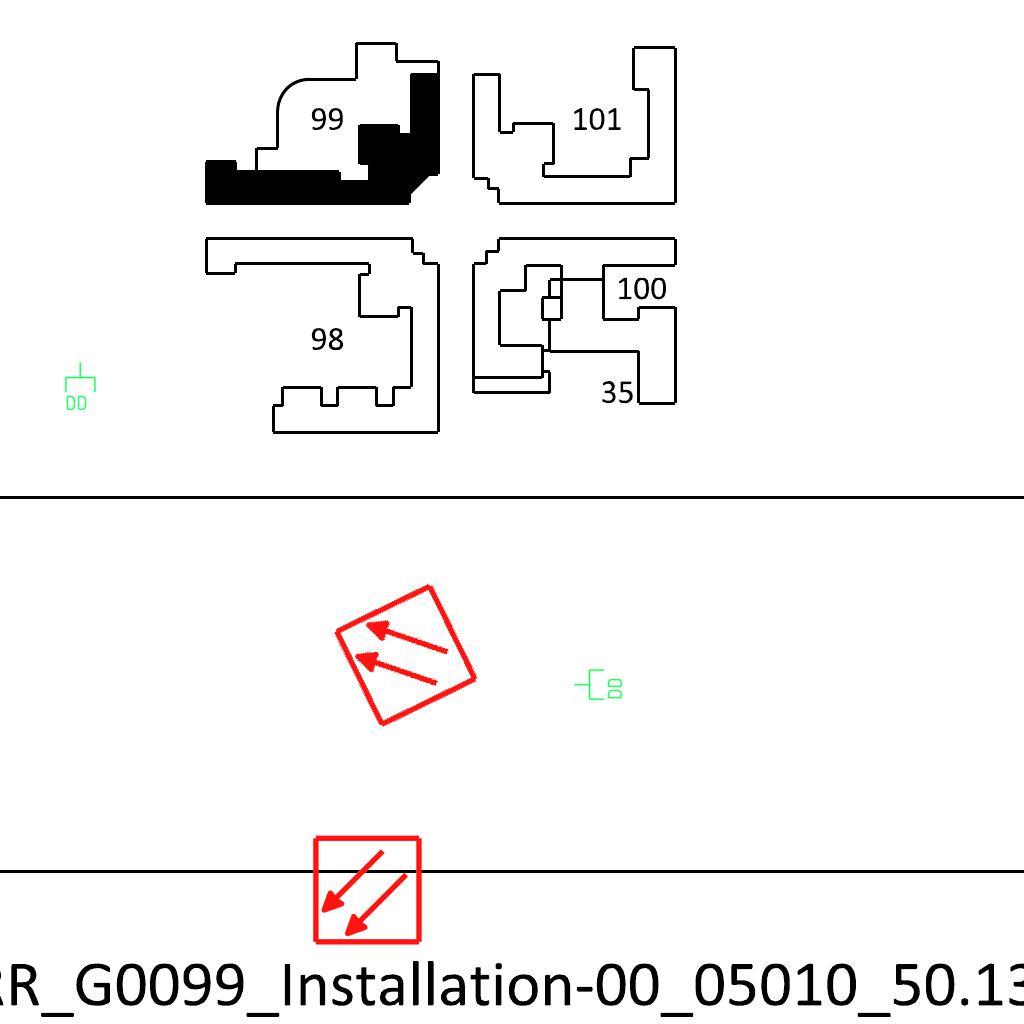Datenanschluss_zweifach: (573, 668, 624, 702), (63, 361, 97, 412)
RMO_Rauchmelder_optischer: (329, 579, 482, 732), (311, 834, 424, 947)
